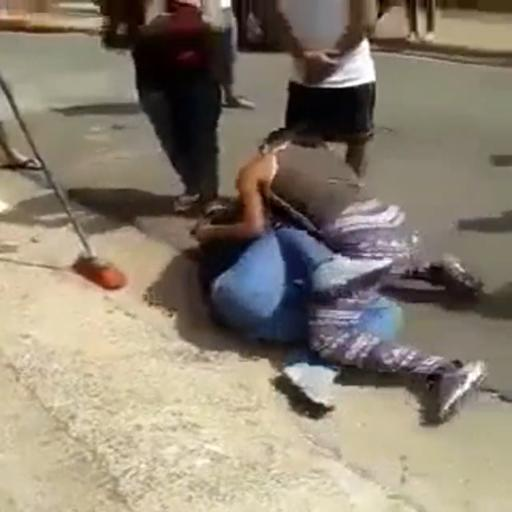violencia: (173, 126, 508, 437)
